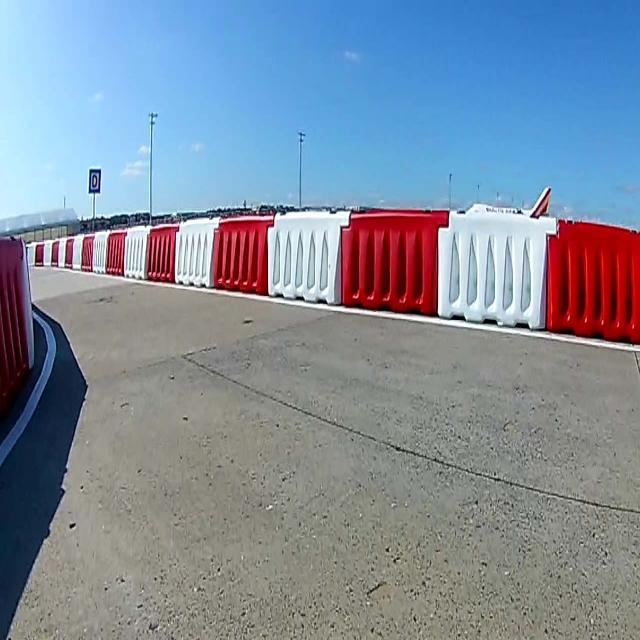durak: (88, 169, 100, 194)
